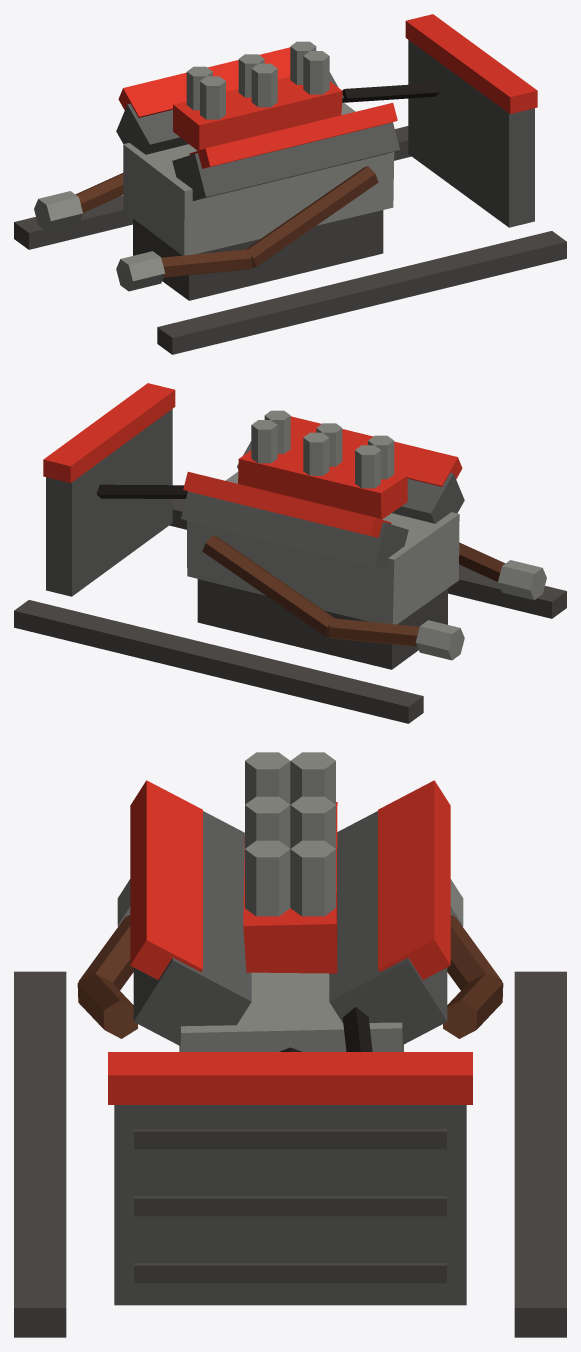
Rendered from eng_racing_v6.glb.
3 views of the same model, one above another, from view 1: azimuth 30°, elevation 25°; view 2: azimuth 150°, elevation 25°; view 3: azimuth 270°, elevation 25° (orthographic). The views are drawn at different scales.
Parts seen in each view (by area): view 1: eng_racing_v6; view 2: eng_racing_v6; view 3: eng_racing_v6.
Boxes of the visible parts, box(x1,y1,x2,y2) form: eng_racing_v6: box(14, 14, 566, 354); eng_racing_v6: box(14, 383, 566, 723); eng_racing_v6: box(14, 752, 566, 1337).
Bounding box in the file's own units: 1.25 × 0.57 × 0.848.
